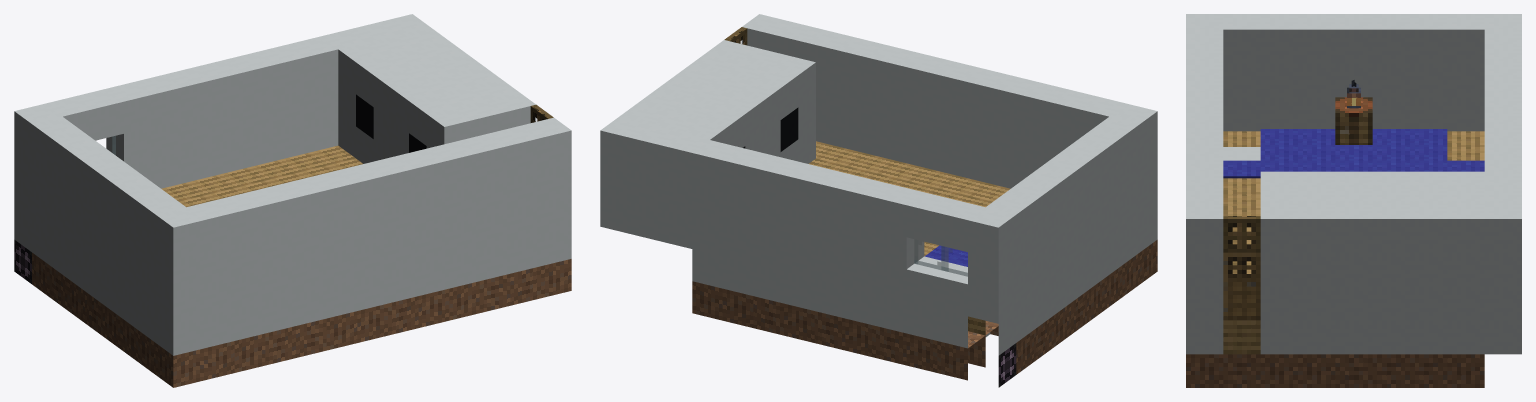
File: Maquete_Artur dos Santos Arrighi.glb
3 views of the same model, side by side, from view 1: azimuth 30°, elevation 25°; view 2: azimuth 150°, elevation 25°; view 3: azimuth 270°, elevation 25° (orthographic). The views are drawn at different scales.
Visible parts, largest first — view 1: node_4; view 2: node_4, node_1; view 3: node_4, node_2, node_3.
Boxes of the visible parts, left/top/right/bottom form: node_4: left=14, top=14, right=571, bottom=387; node_4: left=600, top=14, right=1157, bottom=387; node_1: left=914, top=239, right=967, bottom=276; node_4: left=1186, top=14, right=1521, bottom=387; node_2: left=1223, top=216, right=1260, bottom=320; node_3: left=1347, top=80, right=1360, bottom=108.
Bounding box in the file's own units: 13 × 5 × 9.
3 materials, 3 textured.
